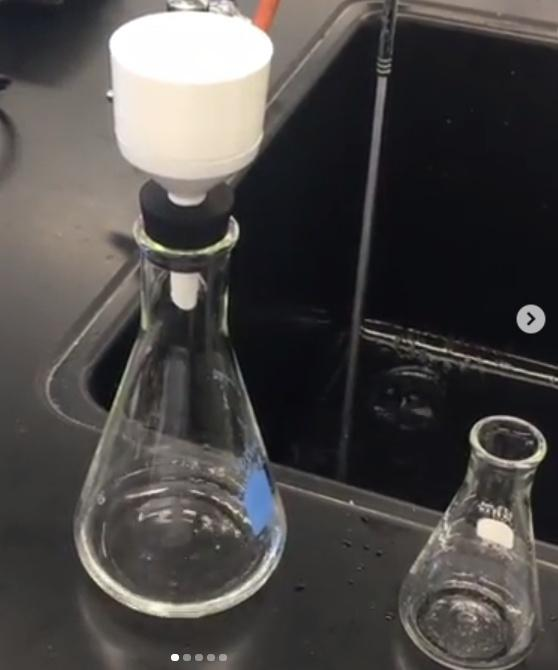Titrarion: (69, 160, 304, 625), (398, 410, 553, 662)
